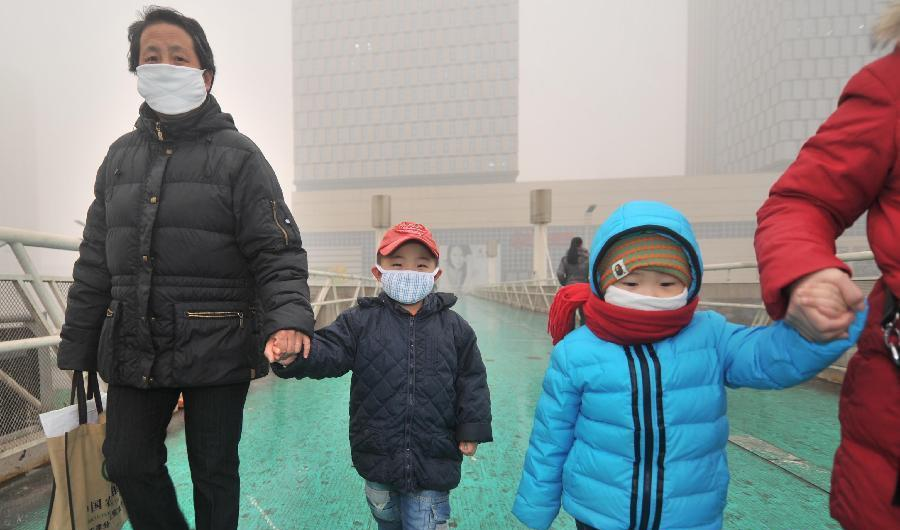OK: (127, 29, 210, 112), (611, 260, 686, 335), (384, 248, 436, 300)
